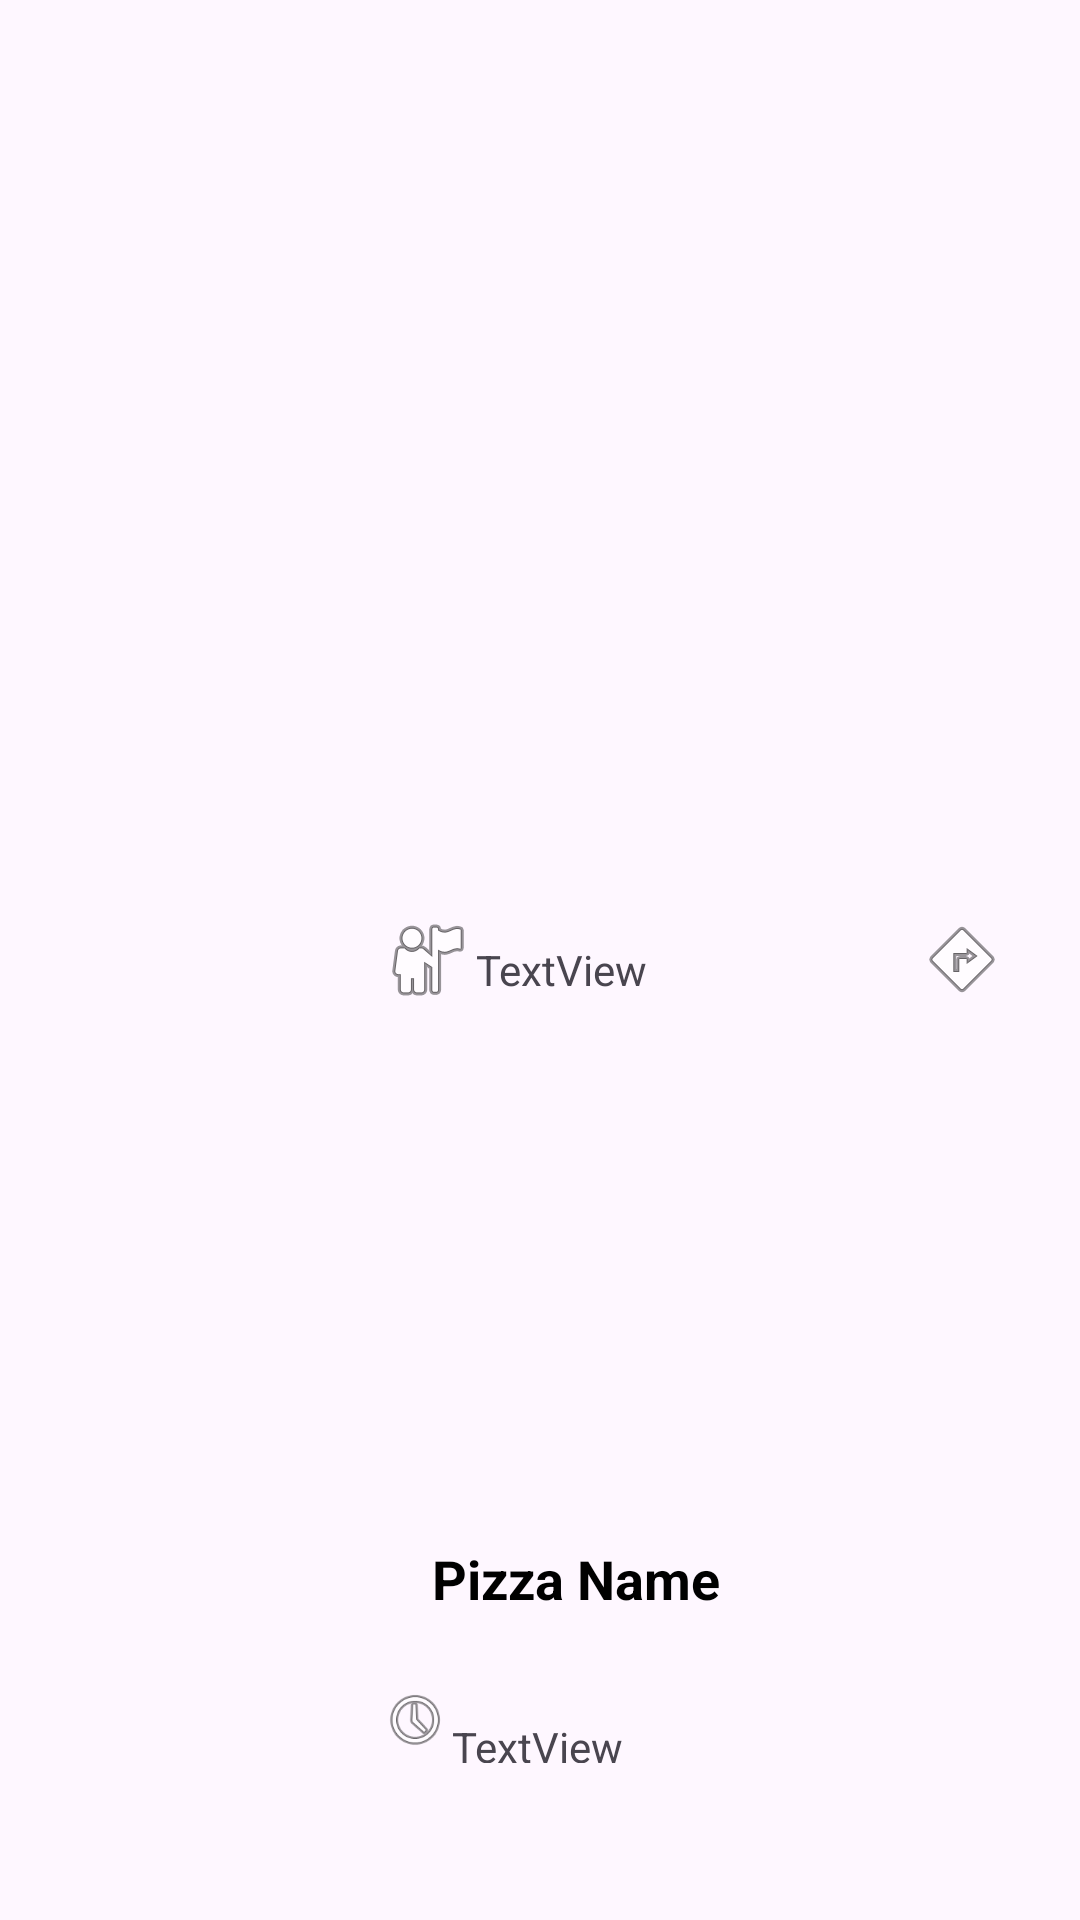

Icon bounding boxes for this 1080 × 1920 phone screenshot, format (x1, y1, x2, y2):
directions: (929, 927, 995, 992)
myplaces: (392, 924, 464, 996)
recent history: (390, 1695, 440, 1745)
